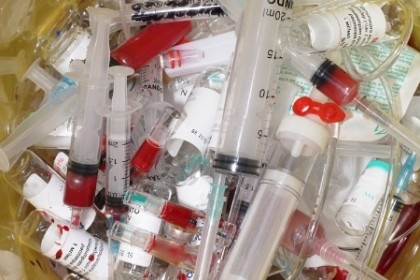plastic: (186, 1, 298, 280), (37, 3, 119, 231), (280, 39, 420, 154), (294, 1, 411, 78), (100, 61, 148, 232)
